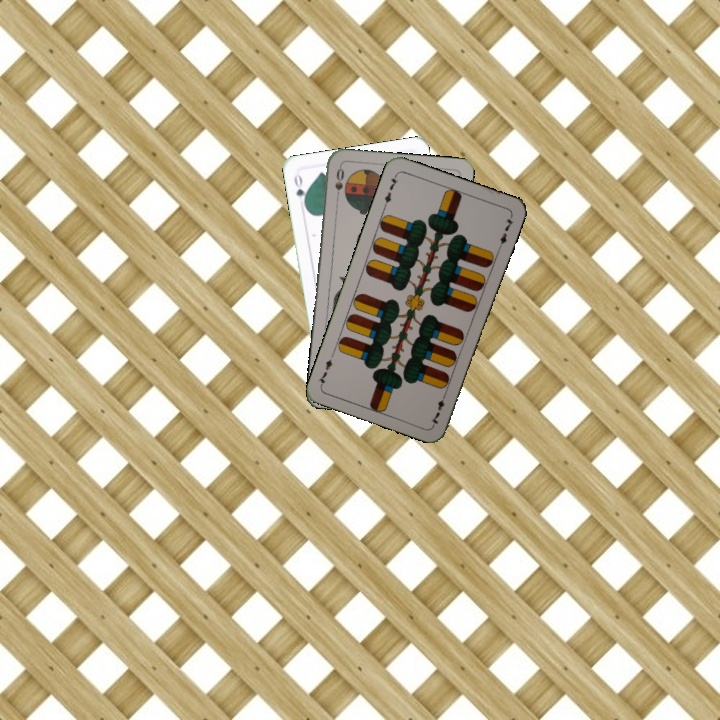E7: (427, 388, 449, 427), (380, 171, 401, 210)
GO: (290, 170, 309, 210)
SO: (331, 163, 347, 204)
